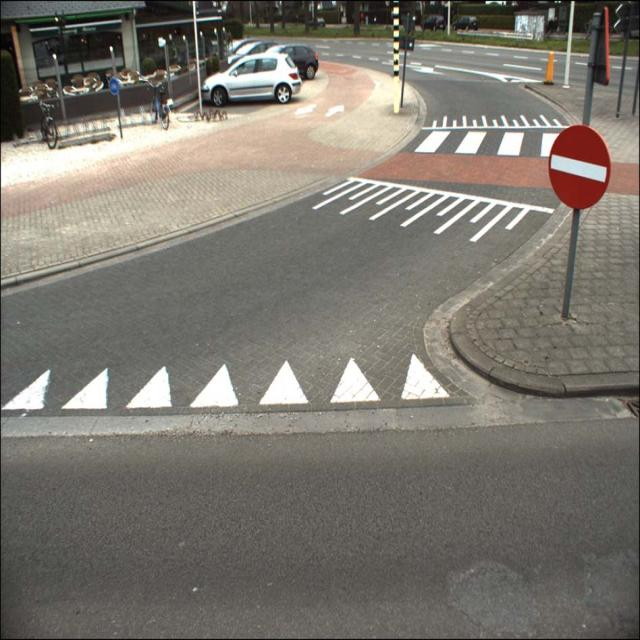girisyok: (550, 125, 610, 209)
